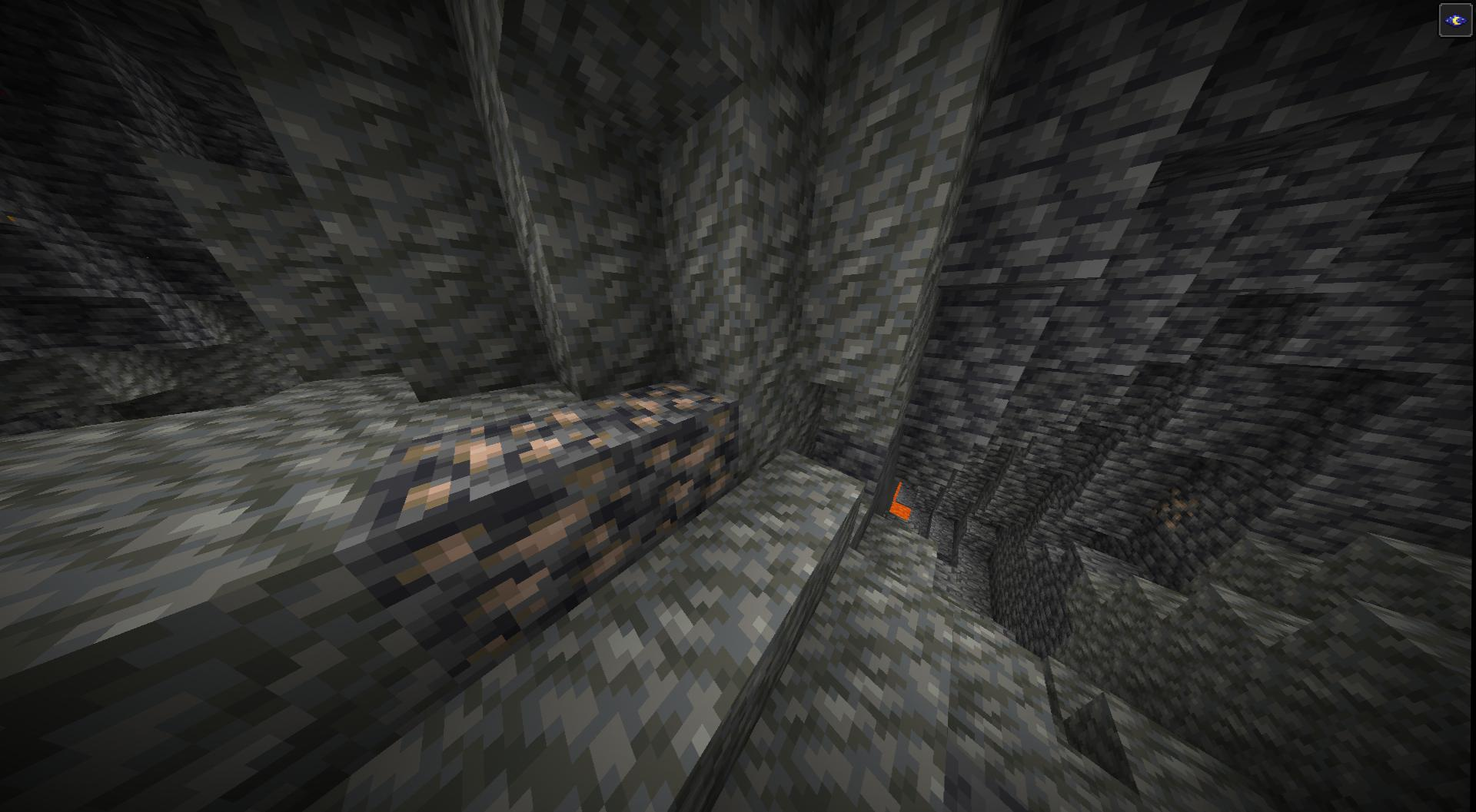iron ore: (395, 407, 633, 634), (607, 380, 736, 504)
